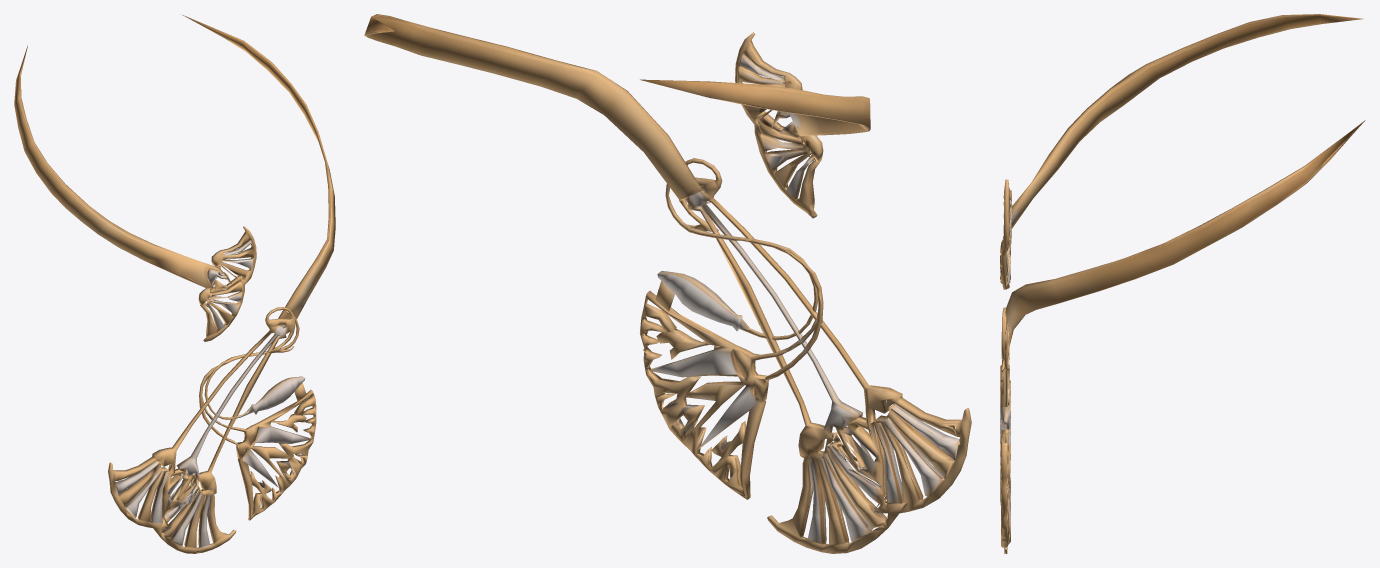
The model's file is meshy_.glb.
The picture shows the model from 3 angles, left to right: view 1: azimuth 30°, elevation 25°; view 2: azimuth 150°, elevation 25°; view 3: azimuth 270°, elevation 25°; orthographic projection. The views are drawn at different scales.
Bounding box in the file's own units: 0.6826 × 0.9517 × 0.6211.
Materials: 1 (1 with a texture image).
